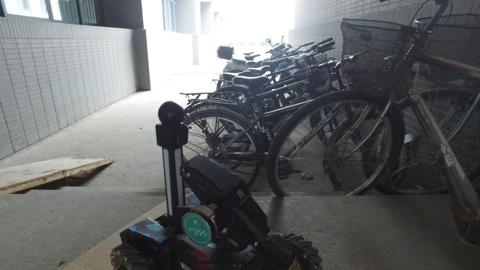bike: (186, 22, 471, 189)
chariot: (78, 111, 321, 270)
